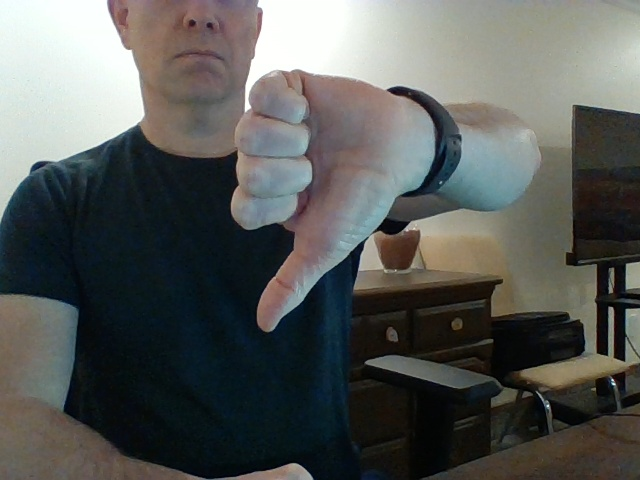ThumbsDown: (230, 69, 396, 334)
